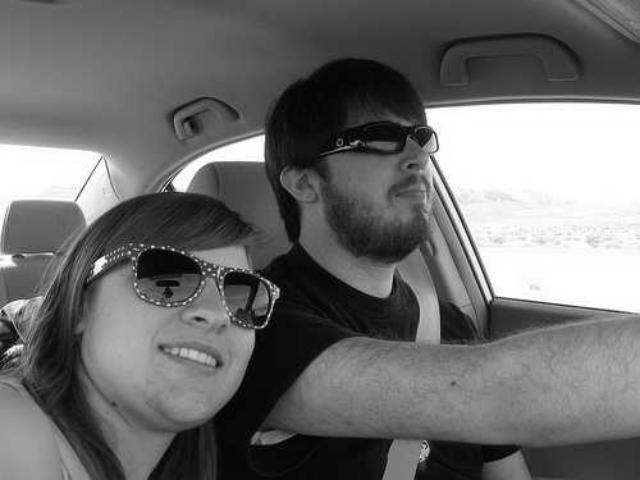Seatbelt: (375, 242, 449, 480)
